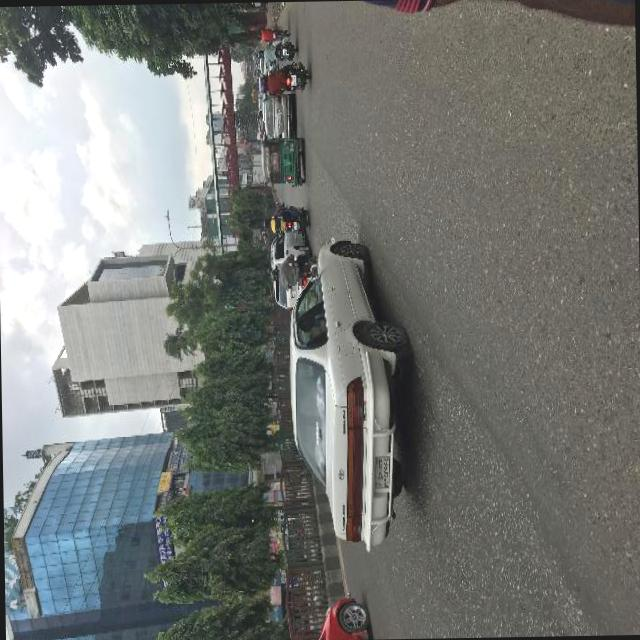bus: (250, 80, 259, 100)
car: (287, 233, 413, 553), (270, 230, 310, 310), (263, 94, 293, 136), (258, 57, 270, 73)
motorcycle: (260, 133, 304, 184), (259, 58, 311, 94), (270, 250, 316, 288), (262, 198, 308, 234), (258, 39, 296, 62)
truck: (257, 90, 264, 108)
